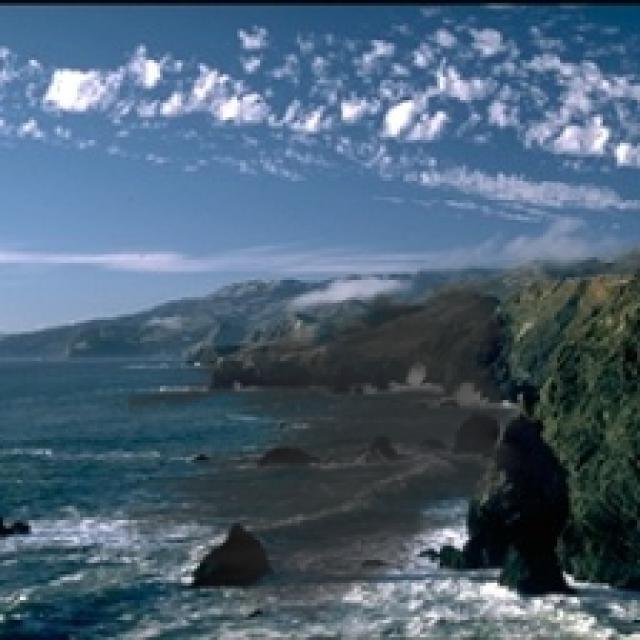Smoke: (128, 266, 543, 634)
